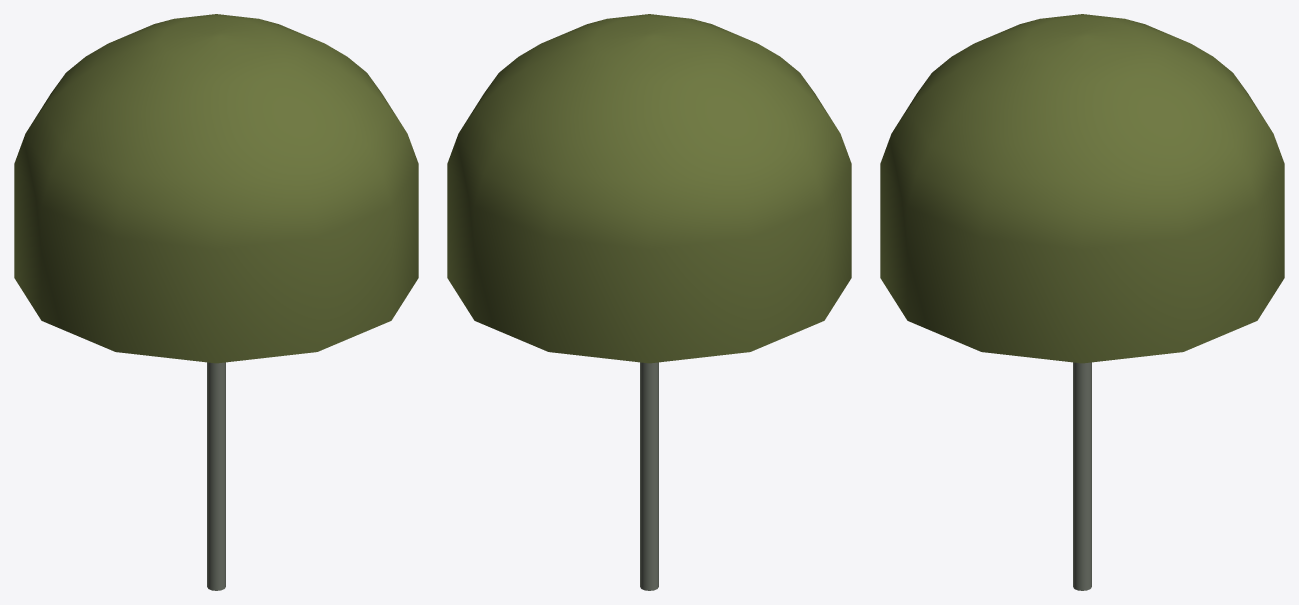
The model's file is Ruffle_Palm_Analytical_0.obj.
The picture shows the model from 3 angles, left to right: view 1: azimuth 30°, elevation 25°; view 2: azimuth 150°, elevation 25°; view 3: azimuth 270°, elevation 25°; orthographic projection.
Parts seen in each view (by area): view 1: AnalyticalCrown, AnalyticalTrunk; view 2: AnalyticalCrown, AnalyticalTrunk; view 3: AnalyticalCrown, AnalyticalTrunk.
Boxes of the visible parts, x1,y1,x2,y2 form: AnalyticalCrown: (14,14,418,363); AnalyticalTrunk: (207,362,225,590); AnalyticalCrown: (447,14,851,363); AnalyticalTrunk: (640,362,658,590); AnalyticalCrown: (880,14,1284,363); AnalyticalTrunk: (1073,362,1091,590).
Bounding box in the file's own units: 4.32 × 6.5 × 4.32.
